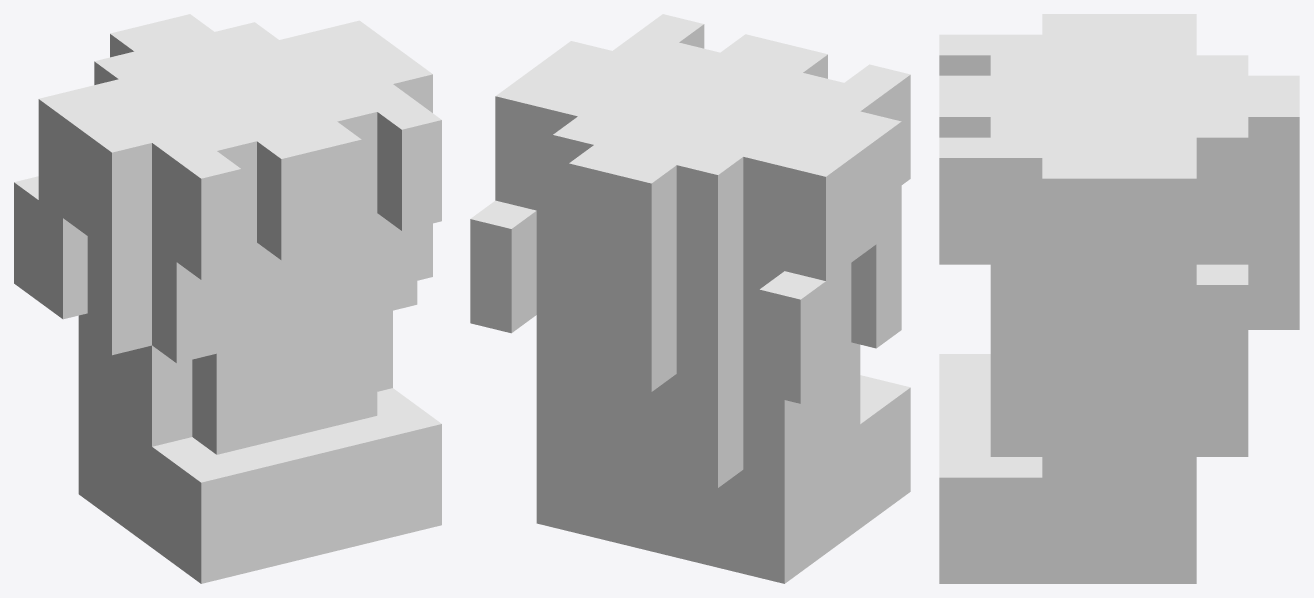
The model's file is Head.obj.
3 renders of one model, left to right at view 1: azimuth 30°, elevation 25°; view 2: azimuth 150°, elevation 25°; view 3: azimuth 270°, elevation 25°, orthographic. The views are drawn at different scales.
Parts seen in each view (by area): view 1: Untitled.001; view 2: Untitled.001; view 3: Untitled.001.
Part boxes in pixels (x1,y1,x2,y2): Untitled.001: (14,14,441,583); Untitled.001: (470,14,910,583); Untitled.001: (939,14,1299,583).
Bounding box in the file's own units: 5.22 × 6.29 × 4.83.
